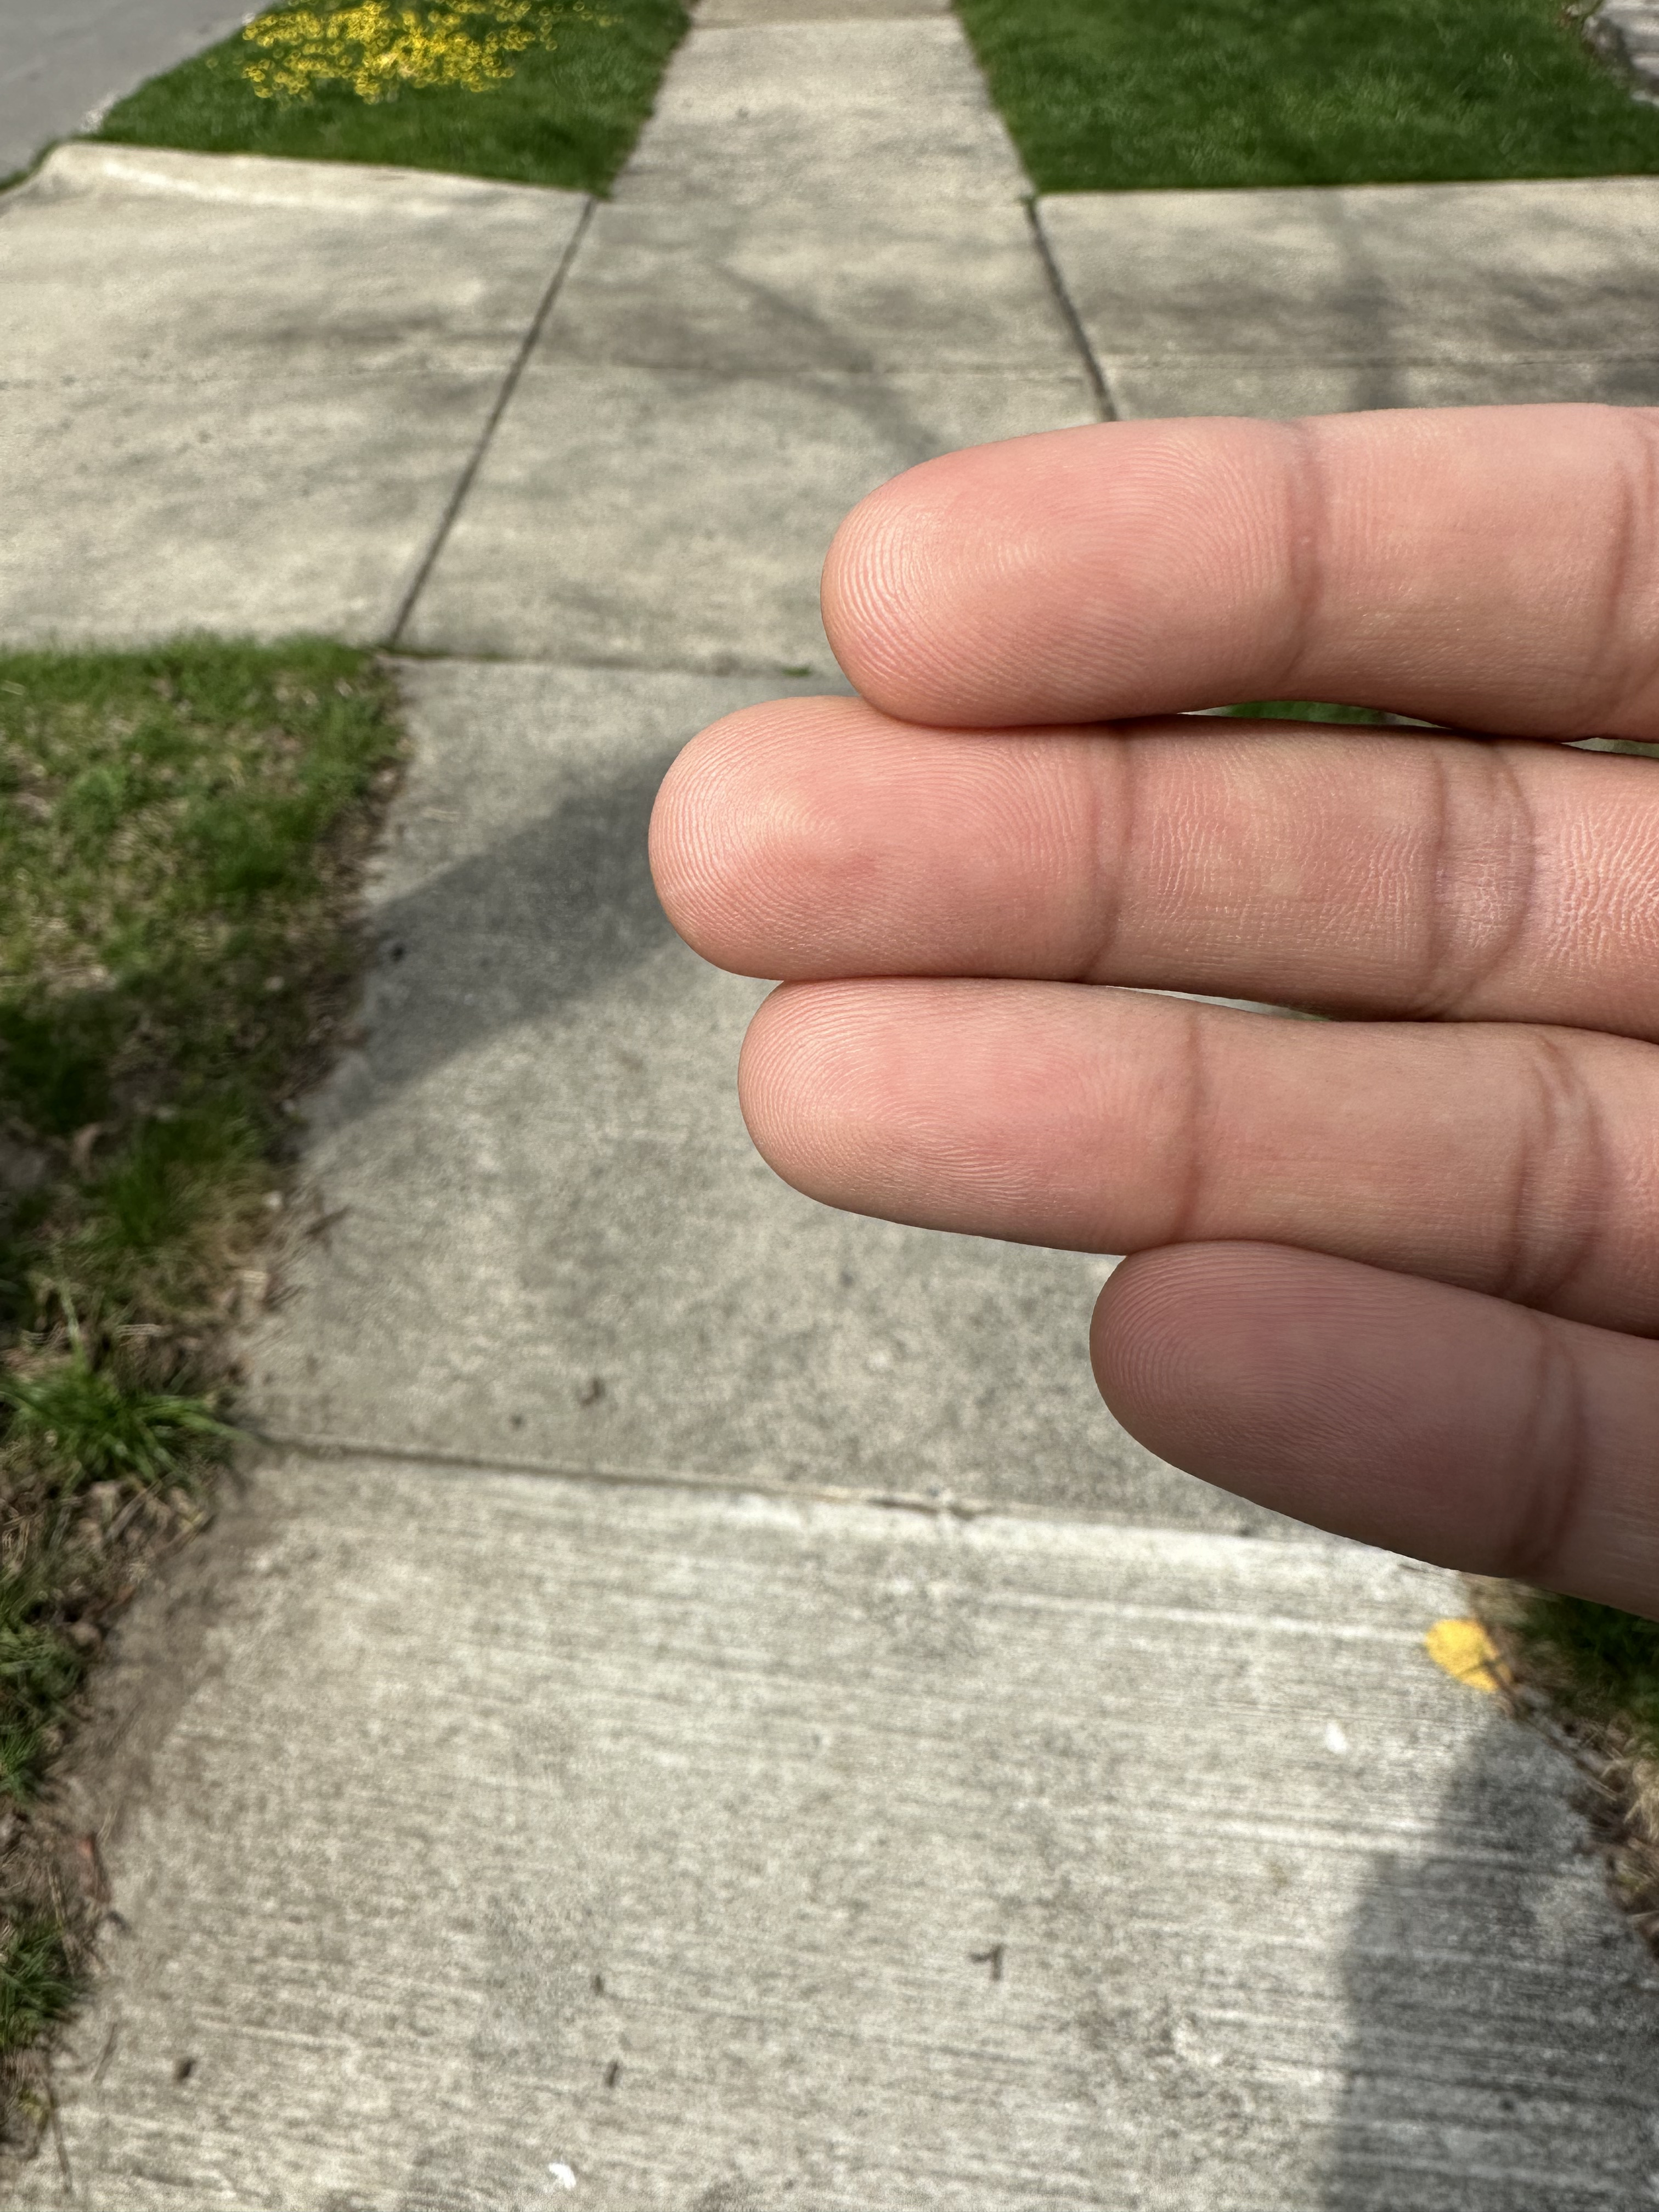finger: (805, 406, 1312, 725), (633, 691, 1129, 972), (1060, 1238, 1516, 1515), (723, 974, 1192, 1235)
